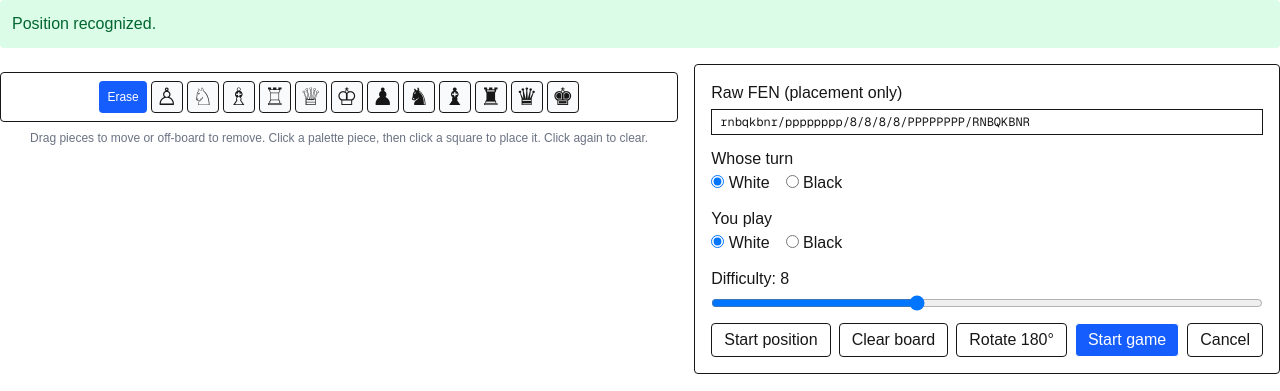
EditMode › disables Start when FEN invalid
This screenshot has width=1280, height=391.
Replace the text in the field labelled "Raw FEN (placement only)" with "garbage" at (987, 122), box [711,109,1263,135]
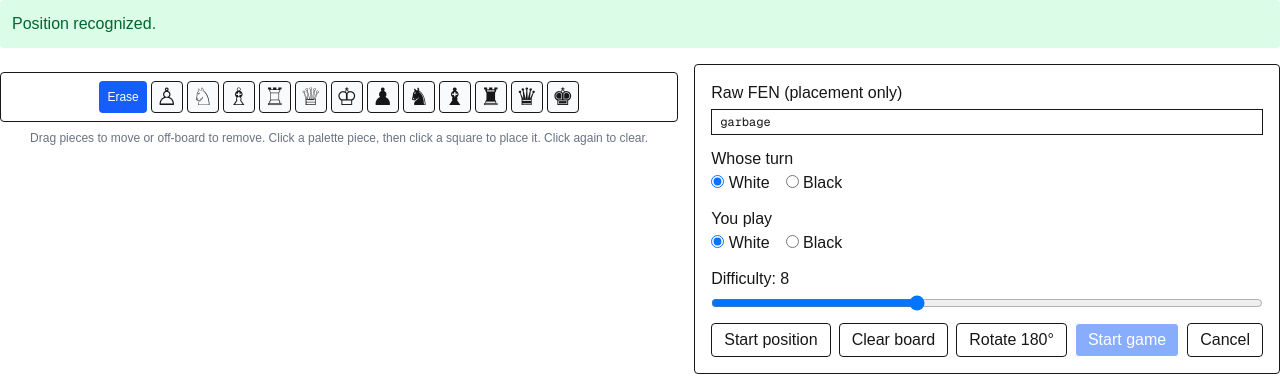
Result: the button "Start game" is disabled at [1075,323,1179,357]
